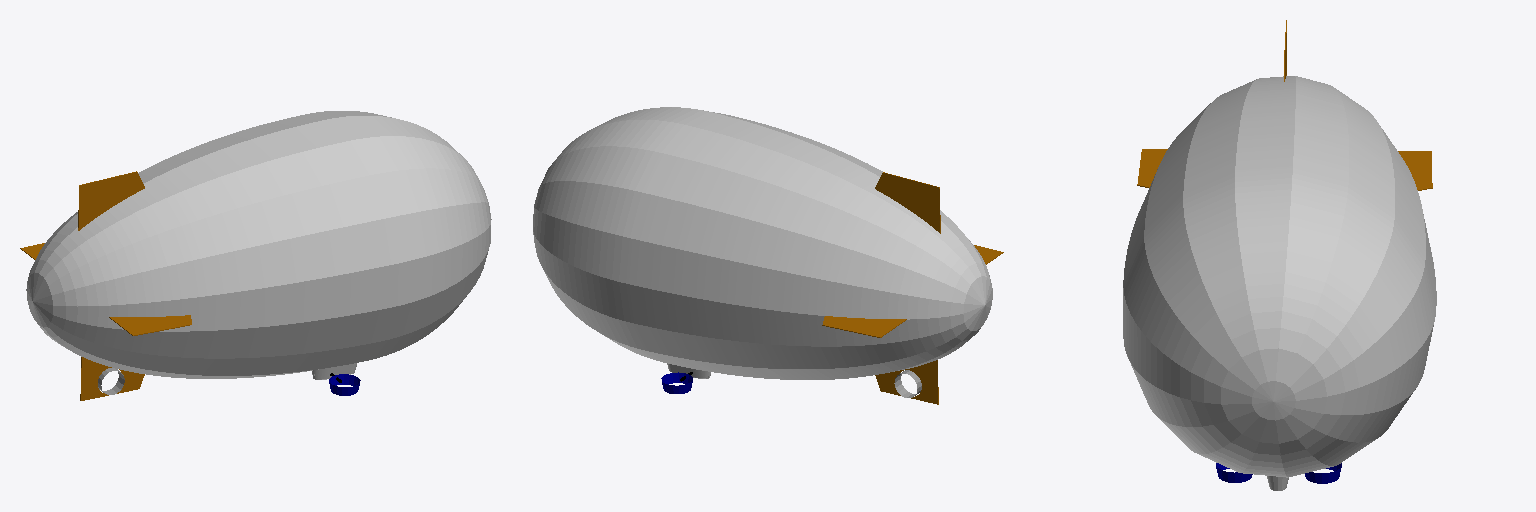
robot.urdf — phantom:
<?xml version='1.0'?>
<robot name="phantom">
<!-- Base Link -->
<link name="quad">
<visual>
<origin xyz="0 0 0" rpy="0 0 0" />
<geometry>
	<!--<mesh filename="package://vehvisual/meshes/maeblimp.stl" scale="0.001 0.001 0.001"/> -->
	<mesh filename="package://vehvisual/meshes/maeblimp.dae" scale="1 1 1"/>
</geometry>
</visual>
</link>
</robot>

--- What the picture shows (computed from the rendered views, not written in the file) ---
Views: 3 orthographic renders of the robot side by side, from view 1: azimuth 30°, elevation 25°; view 2: azimuth 150°, elevation 25°; view 3: azimuth 270°, elevation 25°.
Robot: phantom — 1 links, 0 joints (none); root link quad; default pose: all joints at 0.
Visible links, largest first — view 1: quad; view 2: quad; view 3: quad.
Link boxes in pixels (x1,y1,x2,y2): quad: (20,111,491,400); quad: (533,107,1003,404); quad: (1123,20,1436,490).
Bounding box of the posed robot: 3.03 × 1.51 × 1.66 m (x, y, z).
Meshes: 1 distinct files referenced, 1 mesh visuals loaded (1 Collada DAE).